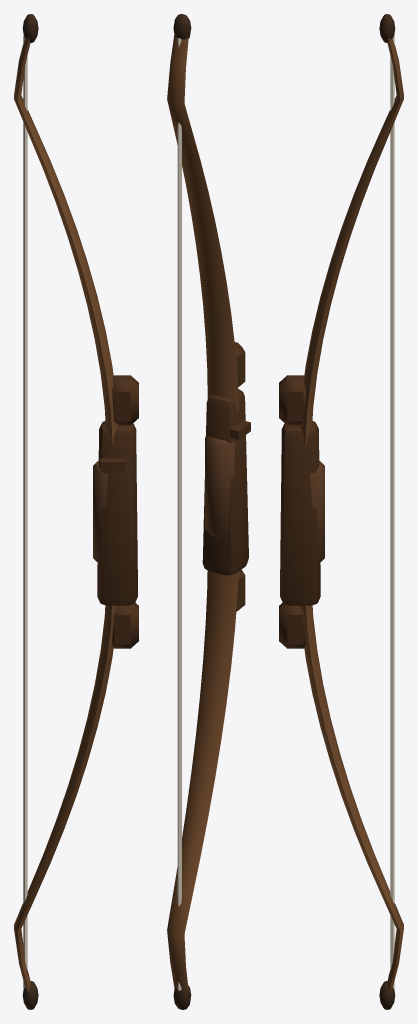
The model's file is hunter_bow.glb.
The picture shows the model from 3 angles, left to right: view 1: azimuth 90°, elevation 25°; view 2: azimuth 150°, elevation 25°; view 3: azimuth 270°, elevation 25°; orthographic projection.
Parts seen in each view (by area): view 1: hunter_bow; view 2: hunter_bow; view 3: hunter_bow.
Part boxes in pixels (bbox=[...]): hunter_bow: bbox=[14, 14, 138, 1009]; hunter_bow: bbox=[167, 14, 250, 1009]; hunter_bow: bbox=[279, 14, 403, 1009].
Size of the model in its own units: 0.0538 by 1.34 by 0.1523.
